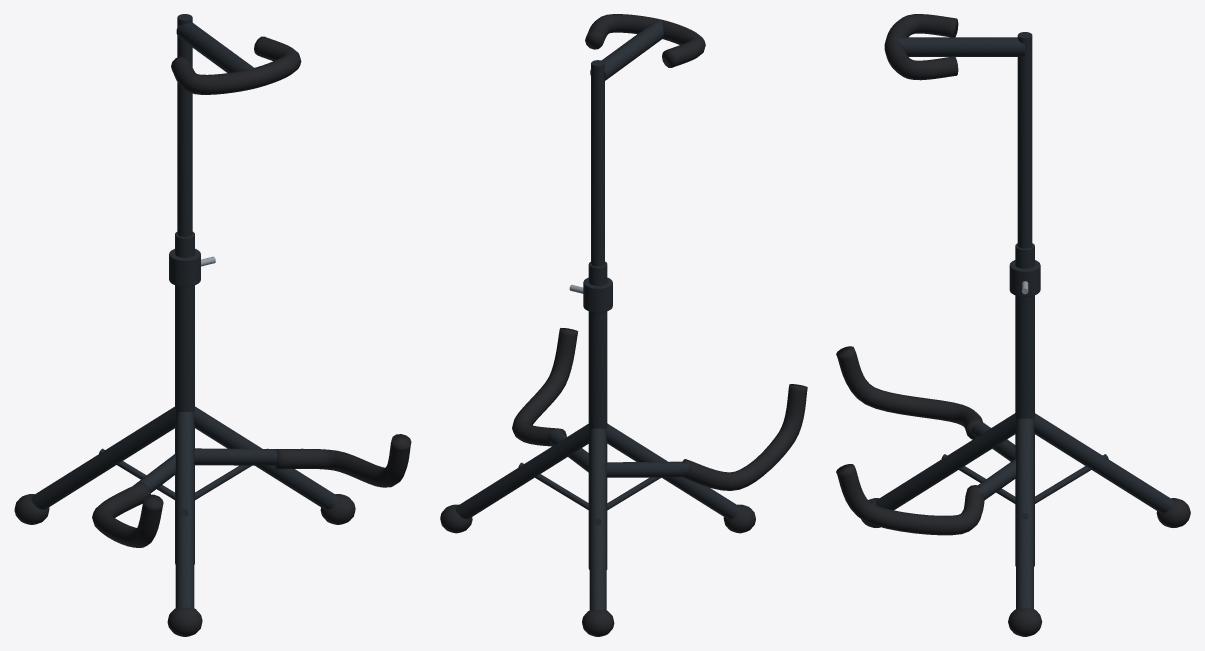
File: guitar-stand-v1.glb
3 renders of one model, left to right at view 1: azimuth 30°, elevation 25°; view 2: azimuth 150°, elevation 25°; view 3: azimuth 270°, elevation 25°, orthographic. The views are drawn at different scales.
Visible parts, largest first — view 1: Guitar stand folding leg 2, Padded neck yoke, Padded lower guitar cradle 1, Guitar stand lower tube, Guitar stand folding leg 1, Padded lower guitar cradle -1, Guitar stand telescoping upper, Guitar stand folding leg 0, Yoke mount, Lower cradle support arm 1, Guitar stand height clamp, Guitar stand rubber foot 2 (+3 smaller); view 2: Padded lower guitar cradle -1, Guitar stand lower tube, Guitar stand folding leg 1, Guitar stand telescoping upper, Padded lower guitar cradle 1, Padded neck yoke, Guitar stand folding leg 0, Guitar stand folding leg 2, Yoke mount, Lower cradle support arm -1, Guitar stand height clamp, Guitar stand rubber foot 1 (+2 smaller); view 3: Padded lower guitar cradle 1, Padded lower guitar cradle -1, Guitar stand folding leg 0, Guitar stand telescoping upper, Guitar stand lower tube, Padded neck yoke, Guitar stand folding leg 1, Guitar stand folding leg 2, Yoke mount, Guitar stand height clamp, Guitar stand rubber foot 0, Lower cradle support arm 1 (+2 smaller).
Part boxes in pixels (x1=…): Guitar stand folding leg 2: x1=175, y1=412, x2=194, y2=608; Padded neck yoke: x1=171, y1=36, x2=301, y2=94; Padded lower guitar cradle 1: x1=273, y1=434, x2=411, y2=487; Guitar stand lower tube: x1=175, y1=232, x2=194, y2=564; Guitar stand folding leg 1: x1=31, y1=406, x2=176, y2=509; Padded lower guitar cradle -1: x1=92, y1=482, x2=163, y2=547; Guitar stand telescoping upper: x1=177, y1=14, x2=192, y2=237; Guitar stand folding leg 0: x1=194, y1=406, x2=338, y2=509; Yoke mount: x1=176, y1=22, x2=253, y2=72; Lower cradle support arm 1: x1=194, y1=448, x2=282, y2=465; Guitar stand height clamp: x1=169, y1=249, x2=200, y2=286; Guitar stand rubber foot 2: x1=167, y1=607, x2=202, y2=636; Padded lower guitar cradle -1: x1=682, y1=384, x2=807, y2=490; Guitar stand lower tube: x1=588, y1=261, x2=607, y2=569; Guitar stand folding leg 1: x1=589, y1=428, x2=606, y2=610; Guitar stand telescoping upper: x1=591, y1=60, x2=604, y2=266; Padded lower guitar cradle 1: x1=512, y1=328, x2=578, y2=446; Padded neck yoke: x1=585, y1=14, x2=705, y2=67; Guitar stand folding leg 0: x1=455, y1=424, x2=589, y2=519; Guitar stand folding leg 2: x1=606, y1=423, x2=740, y2=519; Yoke mount: x1=590, y1=20, x2=663, y2=80; Lower cradle support arm -1: x1=606, y1=461, x2=688, y2=477; Guitar stand height clamp: x1=583, y1=277, x2=612, y2=312; Guitar stand rubber foot 1: x1=582, y1=609, x2=614, y2=636; Padded lower guitar cradle 1: x1=836, y1=464, x2=984, y2=535; Padded lower guitar cradle -1: x1=836, y1=346, x2=982, y2=439; Guitar stand folding leg 0: x1=1016, y1=418, x2=1033, y2=608; Guitar stand telescoping upper: x1=1017, y1=32, x2=1032, y2=248; Guitar stand lower tube: x1=1015, y1=243, x2=1034, y2=566; Padded neck yoke: x1=884, y1=14, x2=958, y2=80; Guitar stand folding leg 1: x1=1033, y1=413, x2=1174, y2=513; Guitar stand folding leg 2: x1=875, y1=413, x2=1016, y2=510; Yoke mount: x1=894, y1=37, x2=1024, y2=56; Guitar stand height clamp: x1=1009, y1=260, x2=1040, y2=296; Guitar stand rubber foot 0: x1=1008, y1=608, x2=1042, y2=636; Lower cradle support arm 1: x1=977, y1=458, x2=1015, y2=499.
Size of the model in its own units: 0.4137 by 0.7164 by 0.4341.
Materials: 3 (3 with a texture image).
